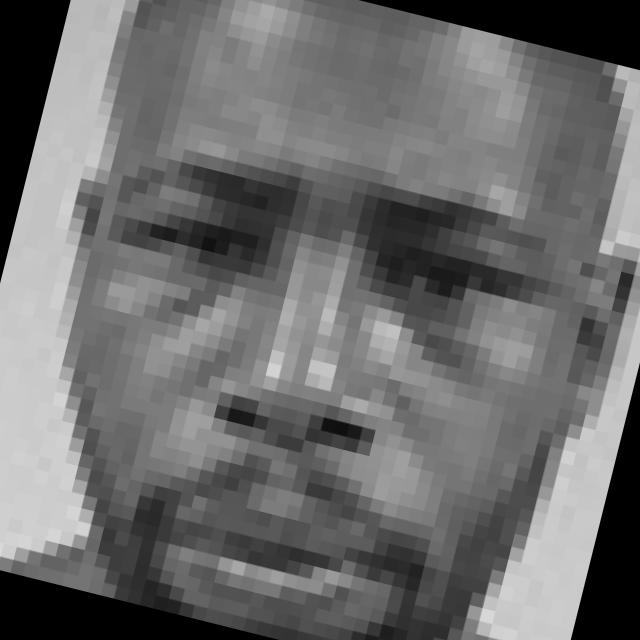neutral: (19, 101, 569, 640)
